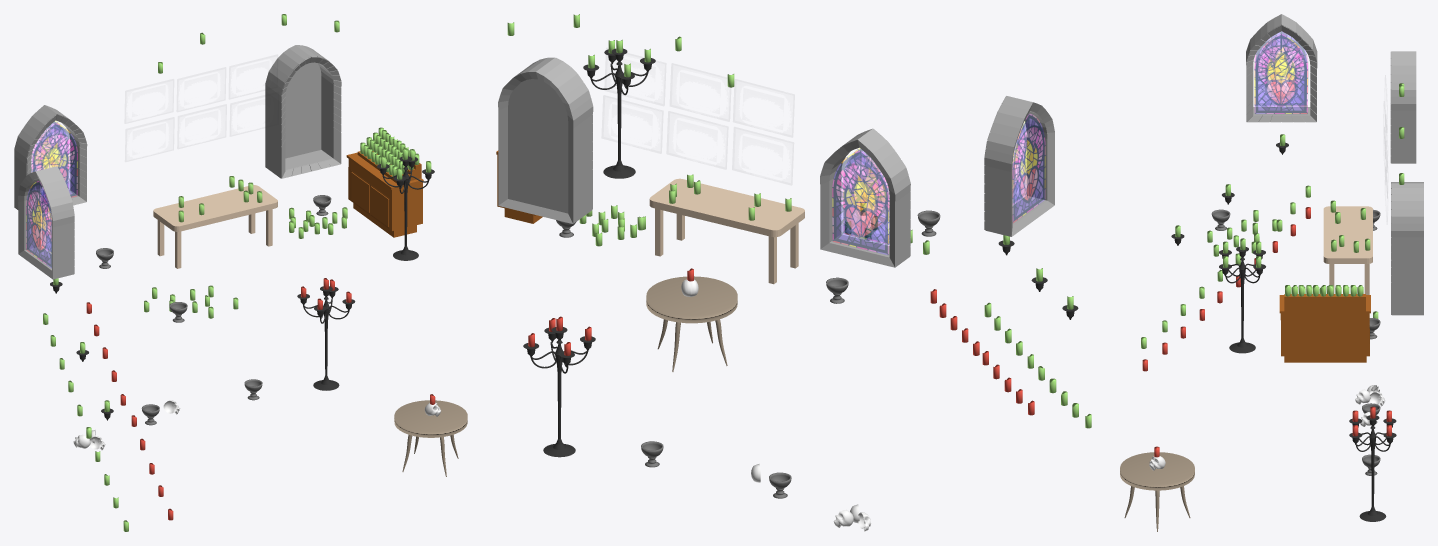
File: things12.glb
The picture shows the model from 3 angles, left to right: view 1: azimuth 30°, elevation 25°; view 2: azimuth 150°, elevation 25°; view 3: azimuth 270°, elevation 25°; orthographic projection. The views are drawn at different scales.
Parts seen in each view (by area): view 1: WindowRock.003, WindowRock.001, Cube.001, WindowRock.002, DesktopBase, TableBase, WindowCrystal01.002, WindowCrystal01.003, WindowCrystal01.004, CandelabraBase.001, CandelabraBase; view 2: WindowRock.003, WindowRock.001, WindowRock.002, WindowCrystal01.004, DesktopBase, WindowCrystal01.002, TableBase, WindowCrystal01.003, WindowCrystal01.001, CandelabraBase.001, CandelabraBase; view 3: Cube.001, WindowRock.003, WindowCrystal01.001, WindowCrystal01.003, WindowRock.001, WindowRock.002, DesktopBase, TableBase, CandelabraBase, CandelabraBase.001.
Boxes of the visible parts, x1,y1,x2,y2 form: WindowRock.003: (265, 45, 341, 178); WindowRock.001: (18, 166, 74, 279); Cube.001: (346, 151, 423, 237); WindowRock.002: (14, 105, 87, 213); DesktopBase: (153, 185, 277, 231); TableBase: (394, 400, 467, 437); WindowCrystal01.002: (32, 123, 77, 204); WindowCrystal01.003: (26, 181, 51, 268); WindowCrystal01.004: (31, 121, 68, 188); CandelabraBase.001: (393, 167, 418, 260); CandelabraBase: (313, 297, 339, 390); WindowRock.003: (498, 57, 593, 223); WindowRock.001: (984, 96, 1054, 236); WindowRock.002: (820, 128, 910, 267); WindowCrystal01.004: (832, 150, 889, 254); DesktopBase: (649, 178, 804, 237); WindowCrystal01.002: (843, 148, 889, 244); TableBase: (646, 276, 737, 323); WindowCrystal01.003: (1013, 113, 1045, 222); WindowCrystal01.001: (1013, 123, 1026, 204); CandelabraBase.001: (603, 61, 635, 178); CandelabraBase: (543, 340, 575, 457); Cube.001: (1279, 294, 1370, 362); WindowRock.003: (1391, 182, 1423, 315); WindowCrystal01.001: (1254, 34, 1307, 113); WindowCrystal01.003: (1254, 31, 1307, 106); WindowRock.001: (1246, 14, 1317, 122); WindowRock.002: (1390, 51, 1416, 163); DesktopBase: (1323, 206, 1372, 263); TableBase: (1120, 452, 1194, 490); CandelabraBase: (1359, 426, 1386, 521); CandelabraBase.001: (1229, 257, 1255, 353).
Size of the model in its own units: 18.49 by 16.95 by 12.32.
Materials: 11 (2 with a texture image).
